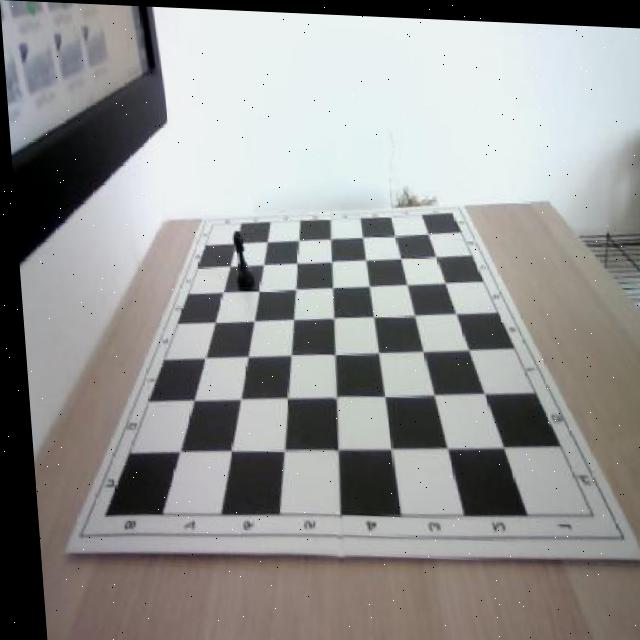black-knight: (230, 227, 251, 286)
